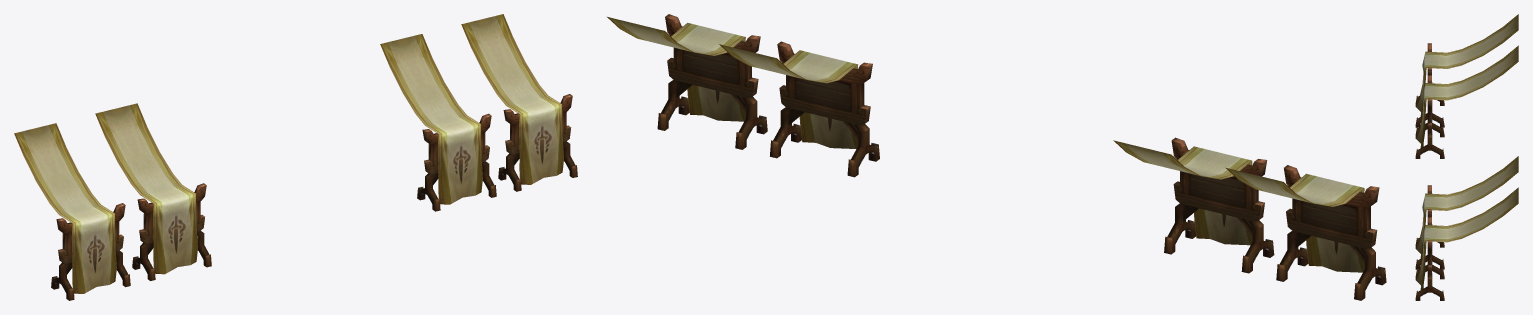
Rendered from cj_luoyang_buman01_56_17_1088out.fbx.
3 renders of one model, left to right at view 1: azimuth 30°, elevation 25°; view 2: azimuth 150°, elevation 25°; view 3: azimuth 270°, elevation 25°, orthographic. The views are drawn at different scales.
Visible parts, largest first — view 1: cj_luoyang_buman01; view 2: cj_luoyang_buman01; view 3: cj_luoyang_buman01.
Boxes of the visible parts, box(x1,y1,x2,y2) form: cj_luoyang_buman01: box(14, 14, 577, 300); cj_luoyang_buman01: box(607, 14, 1386, 300); cj_luoyang_buman01: box(1415, 14, 1518, 300).
Size of the model in its own units: 14.63 by 3.21 by 3.2.
